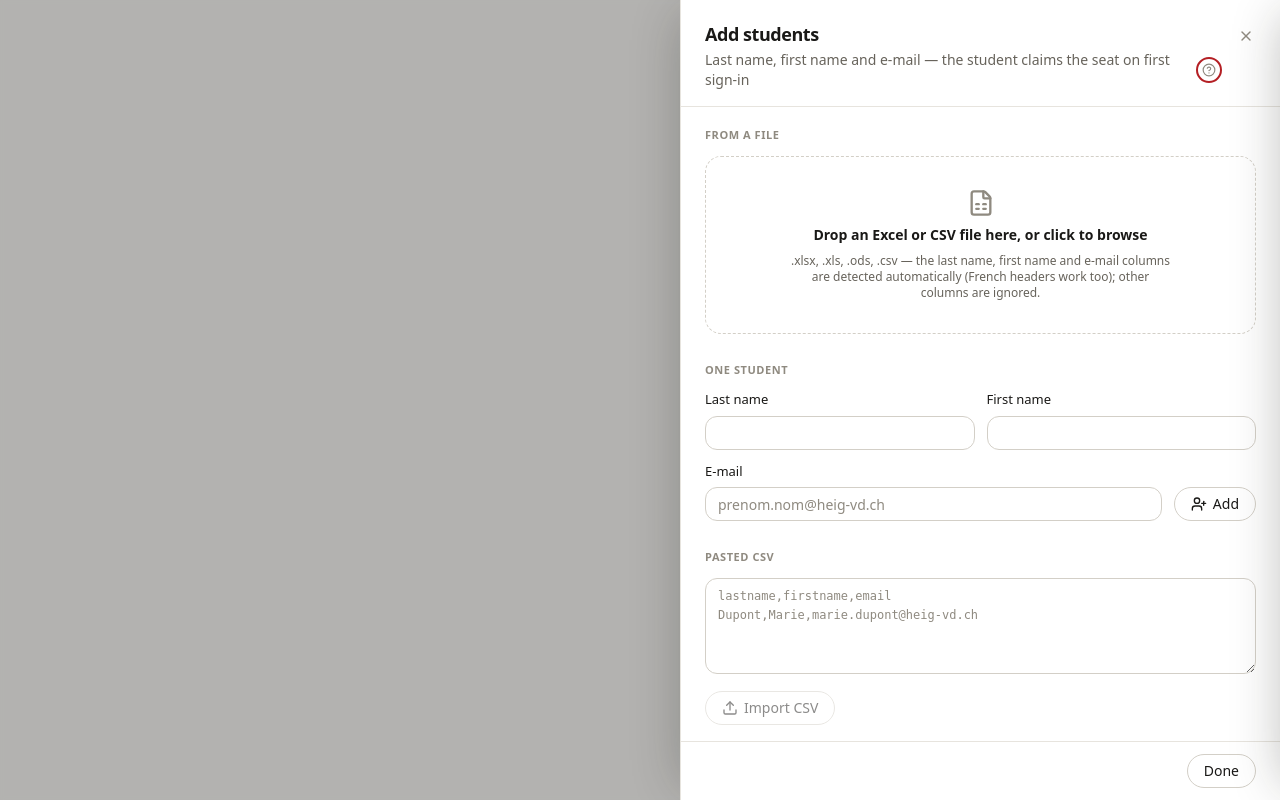
Test: RosterImport rejected lines › lists them under the drop zone and counts them in the footer
This screenshot has width=1280, height=800.
Step 1. Type "Dupont,Marie,marie@heig-vd.ch" into the text box named "Roster CSV" → (980,626), box [705, 578, 1256, 674]
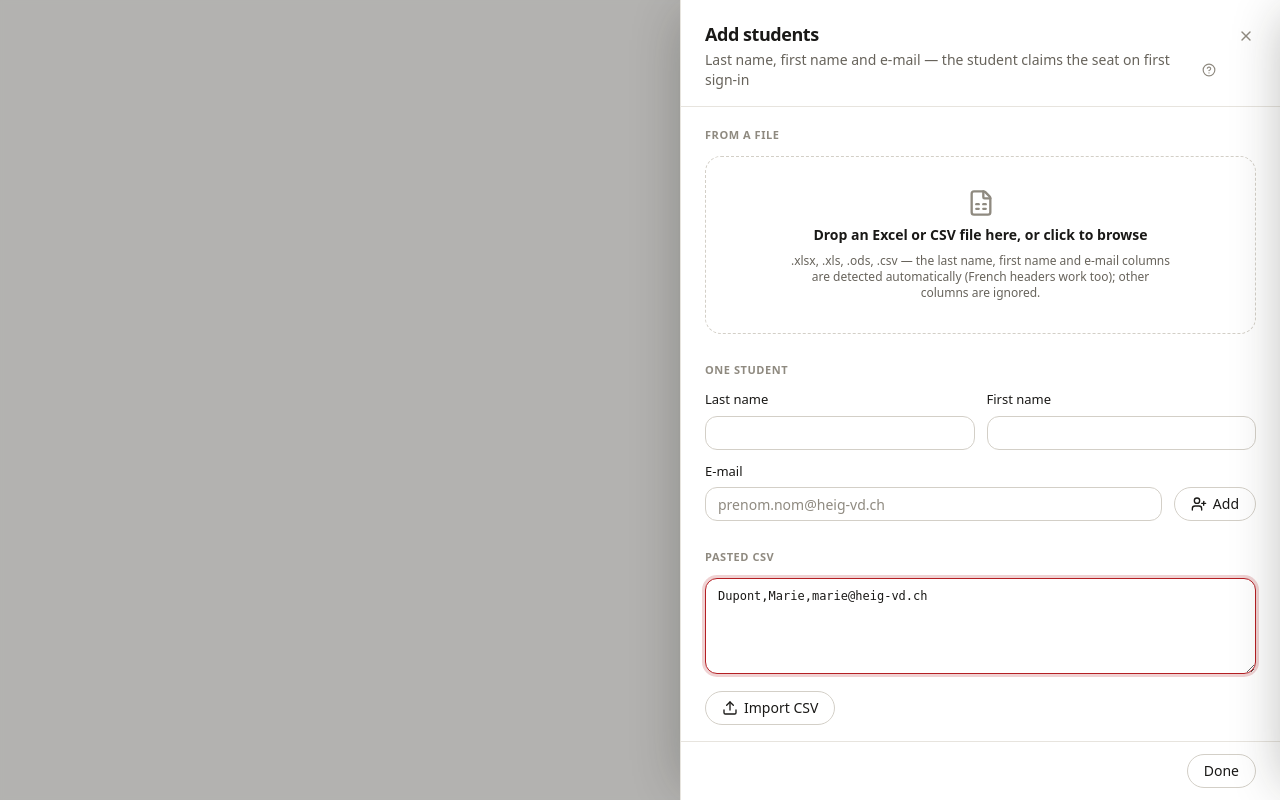
Step 2. Click the button "Import CSV" → (770,708), box [705, 690, 835, 724]
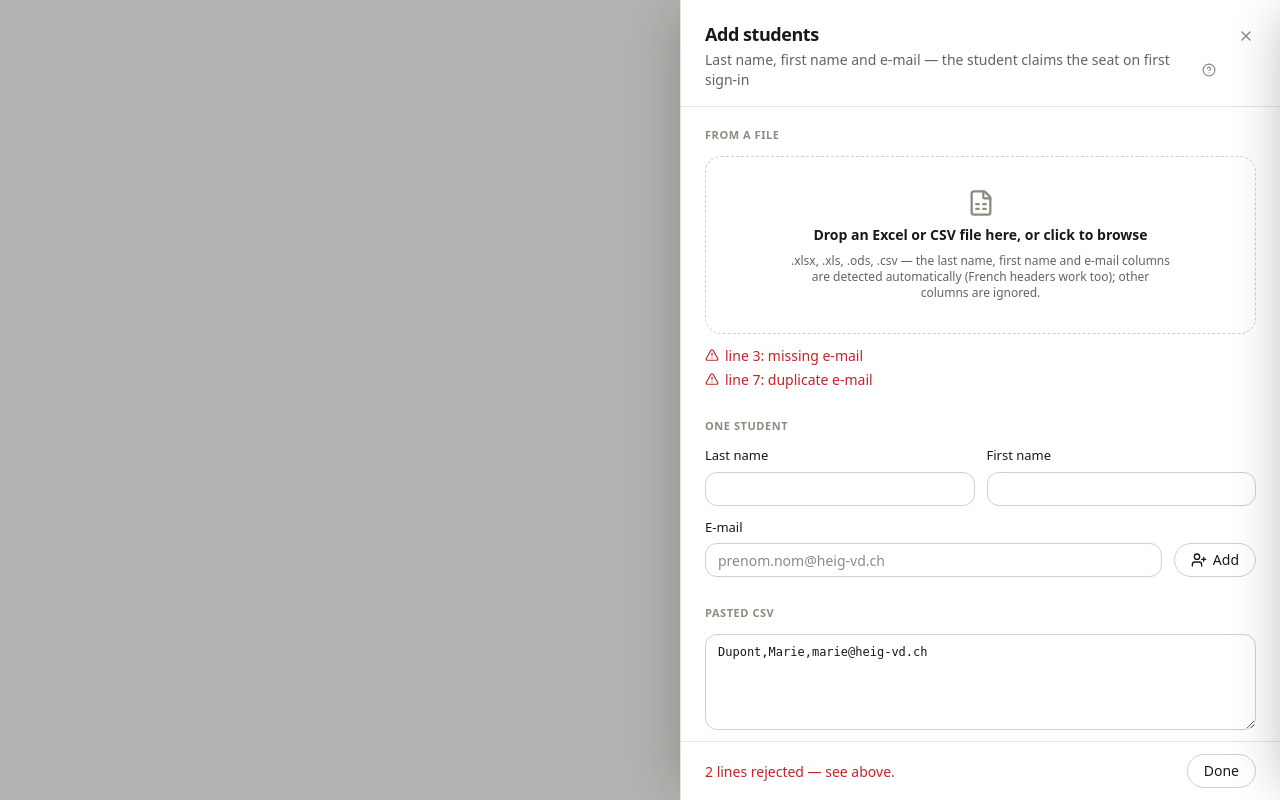
Result: the list item "line 7: duplicate e-mail" is shown at [705, 370, 873, 388]
Result: the text "2 lines rejected — see above." is shown at [705, 762, 895, 780]
